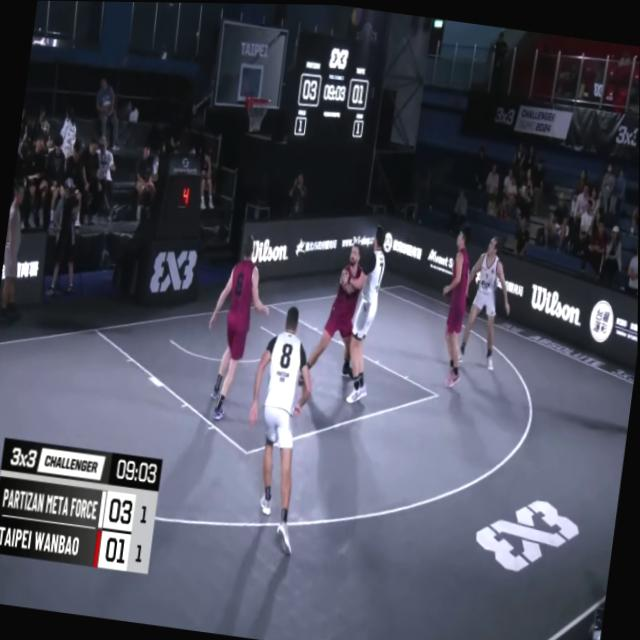ball: (347, 5, 366, 28)
hoop: (242, 91, 272, 135)
player: (232, 300, 317, 546), (200, 234, 279, 431), (325, 220, 392, 405), (300, 239, 368, 391), (429, 217, 481, 390), (459, 234, 519, 376)
